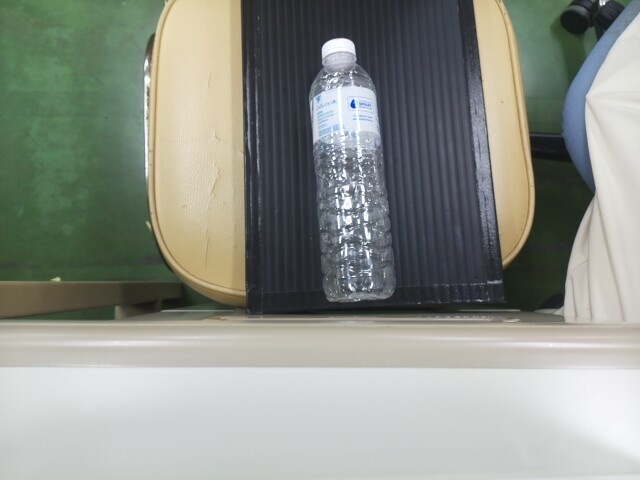plastic_bottle: (301, 35, 396, 302)
